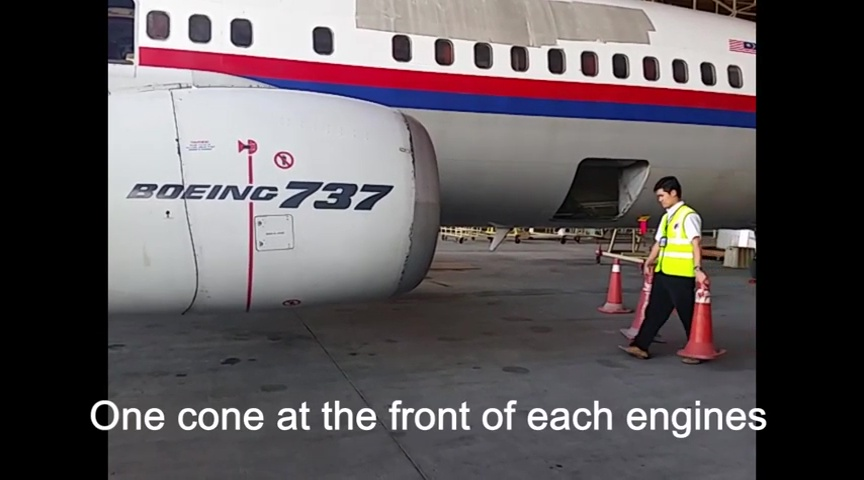safety_cone: (678, 281, 727, 361), (596, 258, 637, 316), (621, 274, 650, 339)
